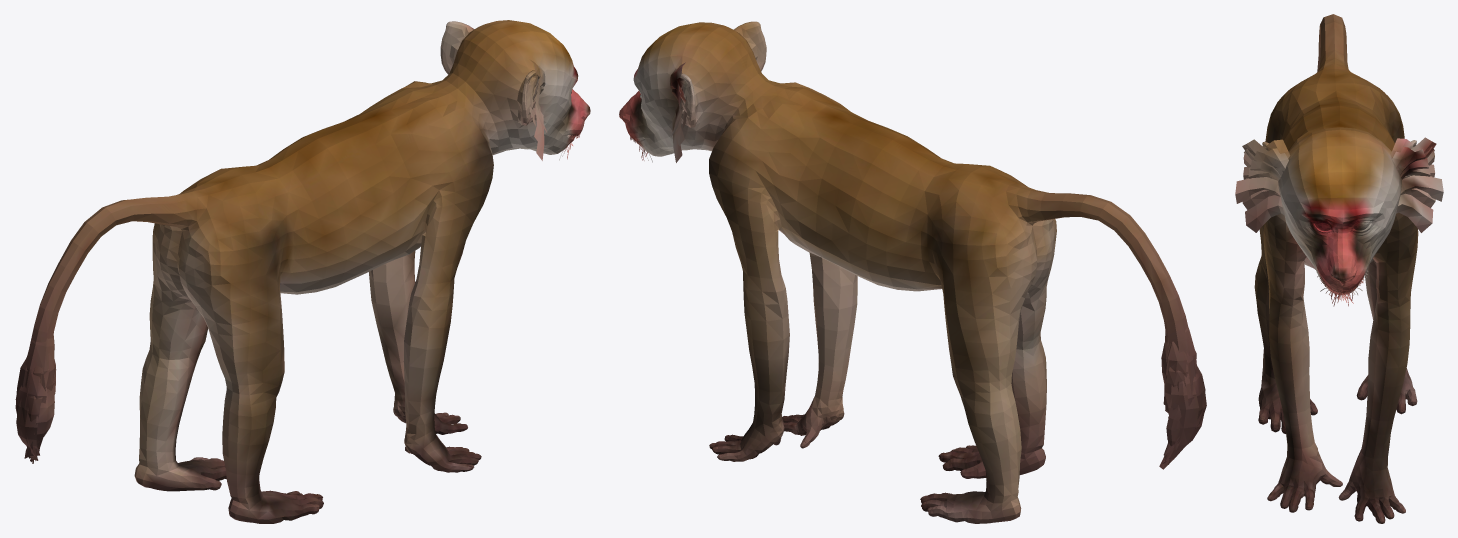
Rendered from baboon.pred.glb.
3 renders of one model, left to right at view 1: azimuth 30°, elevation 25°; view 2: azimuth 150°, elevation 25°; view 3: azimuth 270°, elevation 25°, orthographic.
Parts seen in each view (by area): view 1: root; view 2: root; view 3: root.
Part boxes in pixels (x1=…): root: x1=15, y1=20, x2=590, y2=523; root: x1=619, y1=21, x2=1206, y2=523; root: x1=1235, y1=14, x2=1443, y2=523.
Bounding box in the file's own units: 0.6678 × 0.4439 × 0.2059.
1 material, 1 textured.
